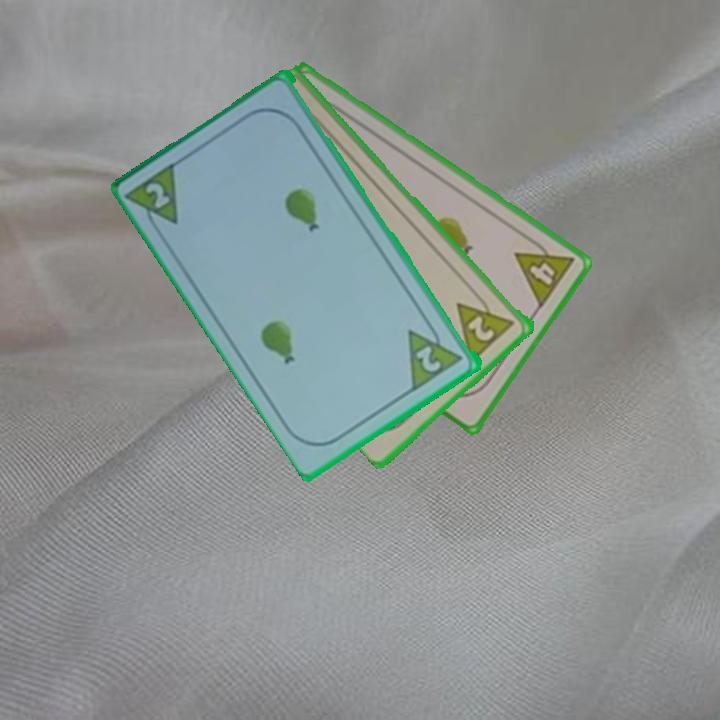2p: (124, 157, 182, 239), (464, 312, 498, 345), (412, 342, 445, 376)
4p: (511, 231, 578, 311)
